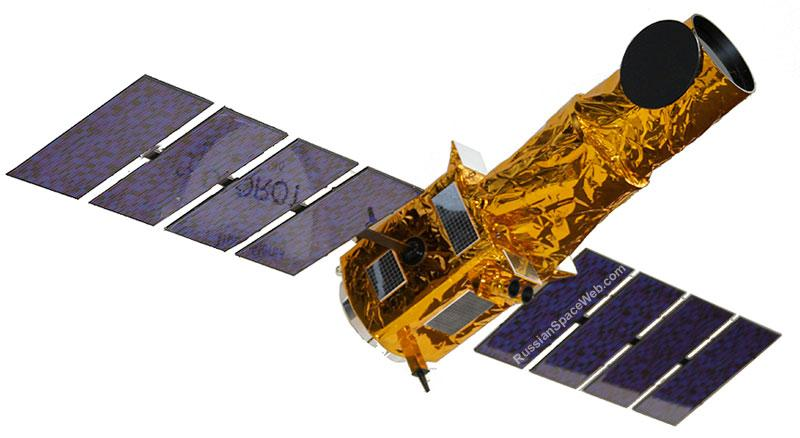antenna: (619, 18, 702, 110)
body: (331, 12, 756, 373)
solar: (3, 73, 219, 202), (86, 100, 293, 229), (161, 131, 363, 254), (232, 162, 430, 280), (471, 245, 639, 371), (527, 267, 692, 392), (579, 292, 740, 411), (631, 311, 785, 429), (430, 181, 481, 259), (424, 290, 499, 338), (363, 246, 409, 305)
